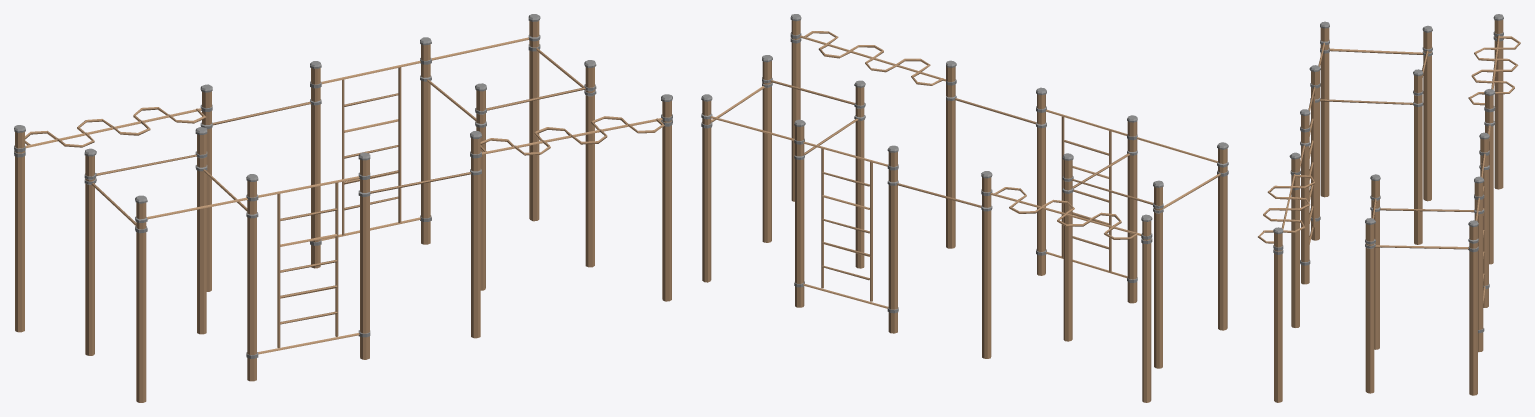
Rendered from турник5.glb.
3 renders of one model, left to right at view 1: azimuth 30°, elevation 25°; view 2: azimuth 150°, elevation 25°; view 3: azimuth 270°, elevation 25°, orthographic. The views are drawn at different scales.
Parts seen in each view (by area): view 1: SM_Vostochnaya_Vl_4A_Flora.001; view 2: SM_Vostochnaya_Vl_4A_Flora.001; view 3: SM_Vostochnaya_Vl_4A_Flora.001.
Part boxes in pixels (x1,y1,x2,y2): SM_Vostochnaya_Vl_4A_Flora.001: [14, 14, 672, 402]; SM_Vostochnaya_Vl_4A_Flora.001: [701, 14, 1228, 402]; SM_Vostochnaya_Vl_4A_Flora.001: [1258, 14, 1520, 402].
Size of the model in its own units: 7.73 by 2.85 by 3.95.
1 material, 1 textured.
